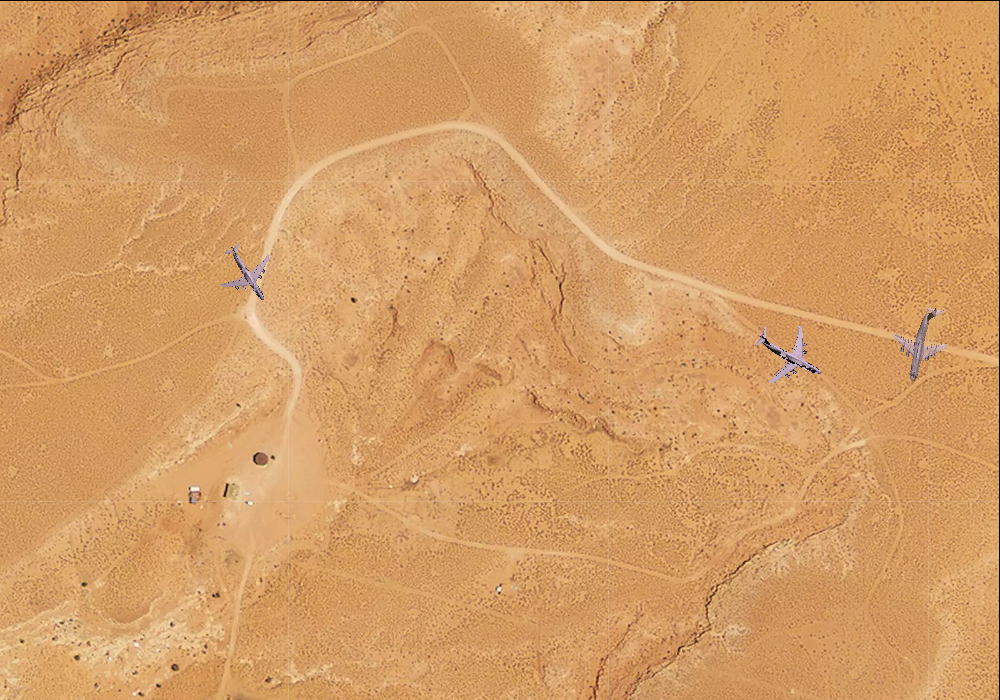plane: (740, 306, 838, 402), (882, 299, 965, 389), (205, 231, 288, 315)
